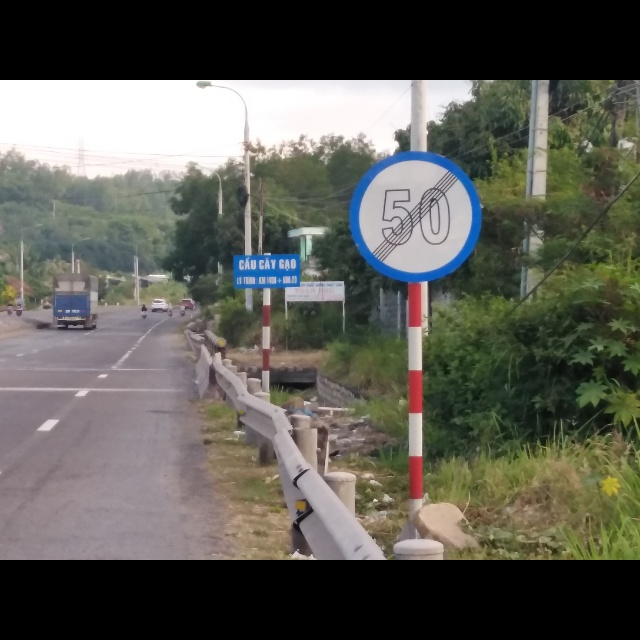Hết hạn chế tốc độ tối đa 50km/h: (346, 151, 483, 286)
